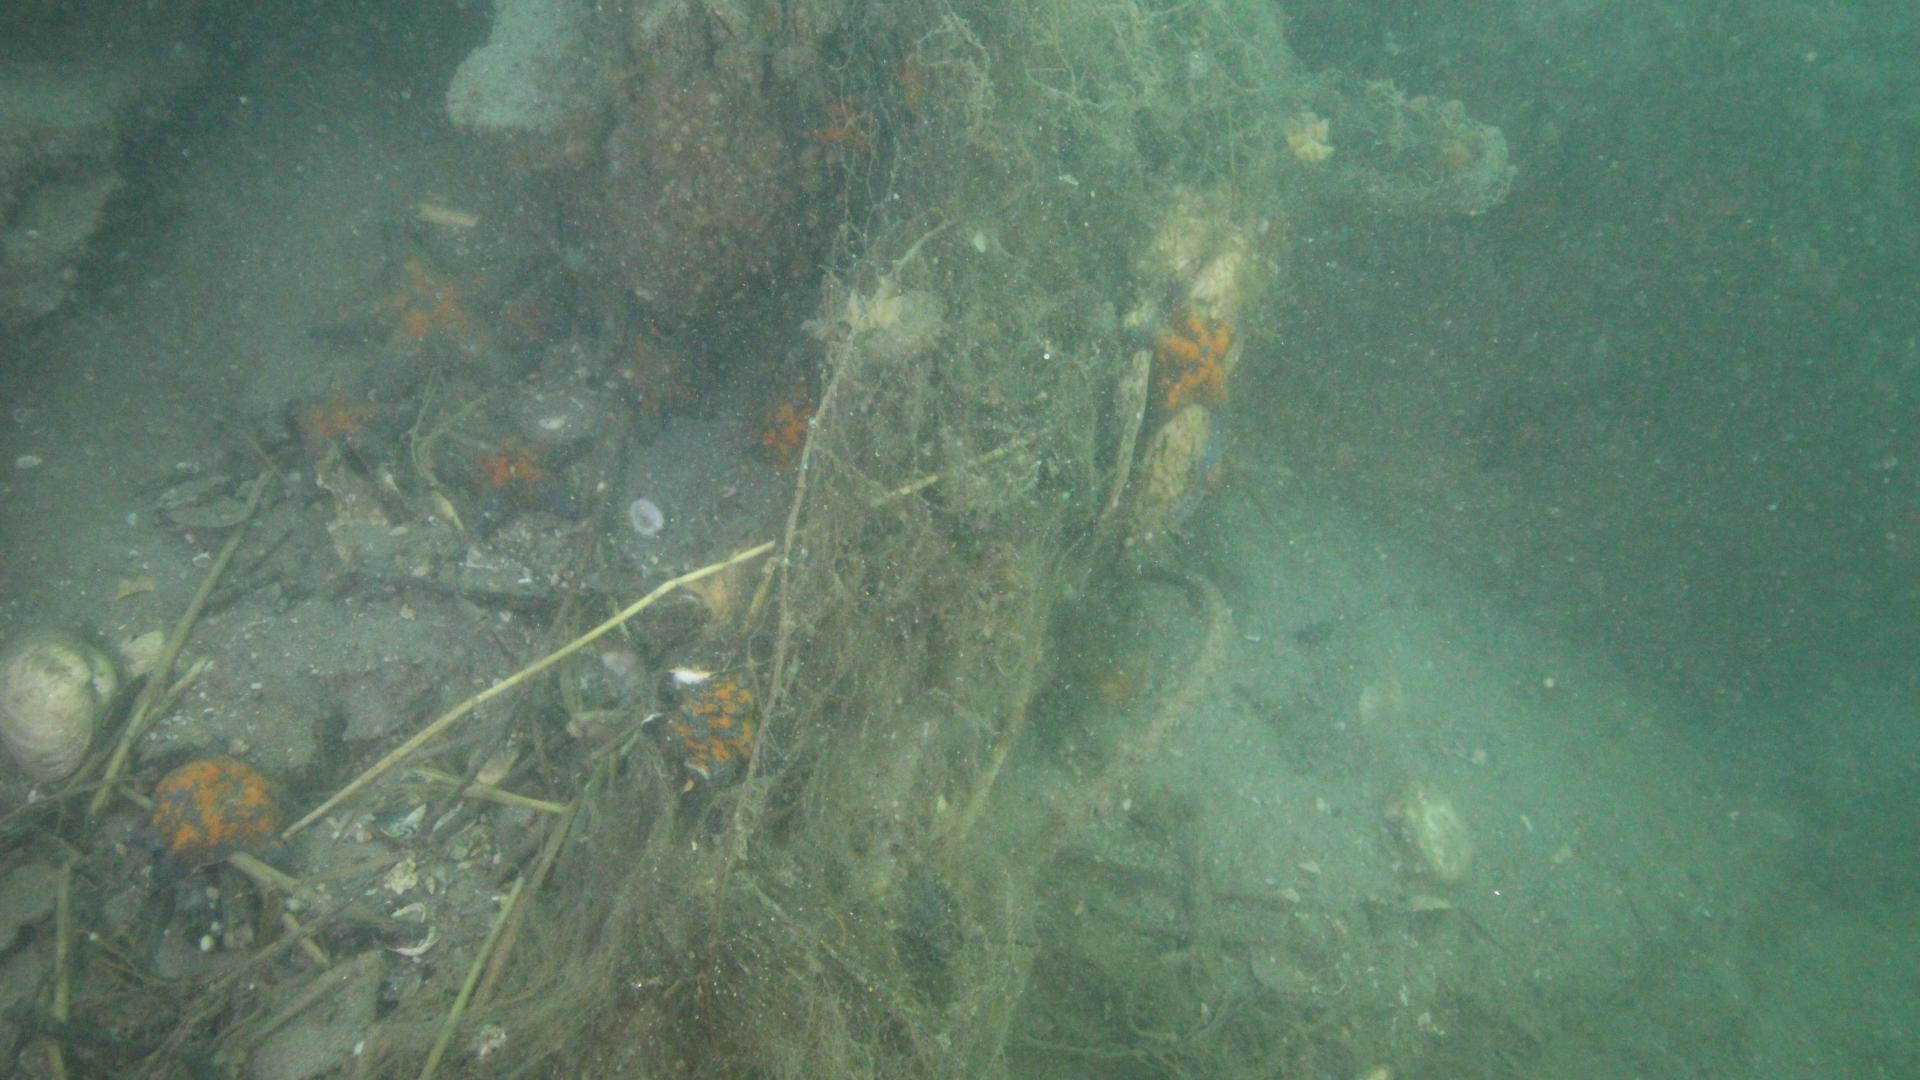rope: (1022, 564, 1234, 864)
